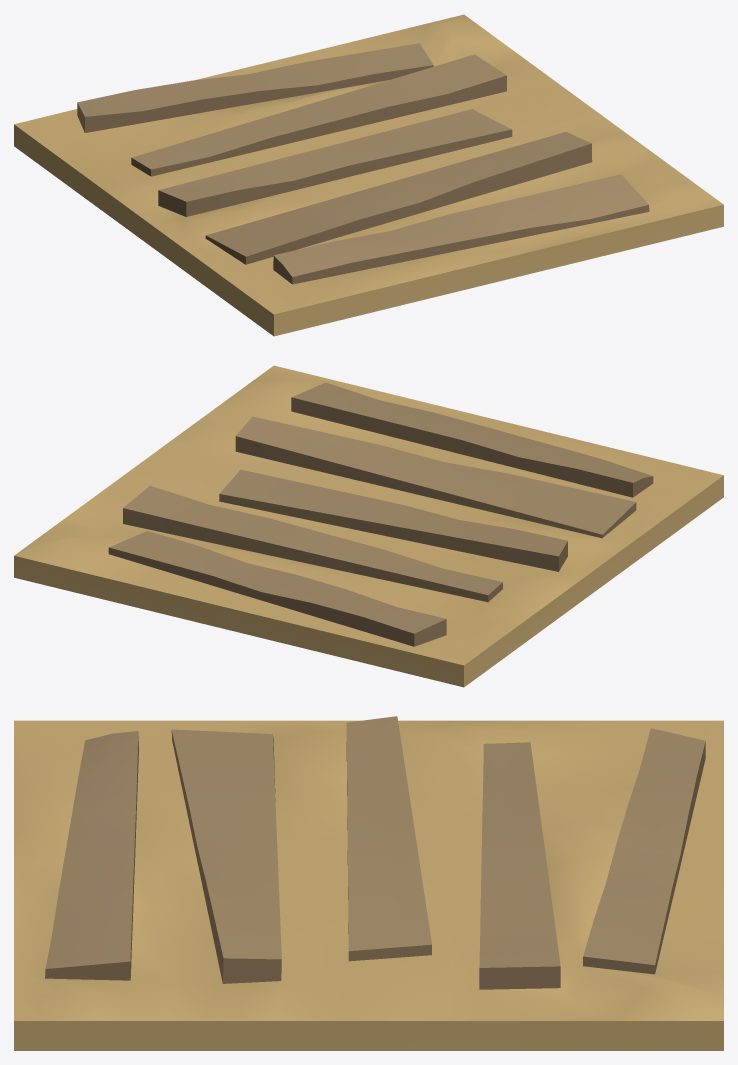
File: ground_planks.glb
3 views of the same model, one above another, from view 1: azimuth 30°, elevation 25°; view 2: azimuth 150°, elevation 25°; view 3: azimuth 270°, elevation 25° (orthographic). The views are drawn at different scales.
Parts seen in each view (by area): view 1: ground_planks; view 2: ground_planks; view 3: ground_planks.
Boxes of the visible parts, left/top/right/bottom form: ground_planks: left=14, top=14, right=723, bottom=336; ground_planks: left=14, top=365, right=723, bottom=687; ground_planks: left=14, top=716, right=723, bottom=1050.
Bounding box in the file's own units: 2 × 0.1724 × 2.
Materials: 1 (1 with a texture image).
